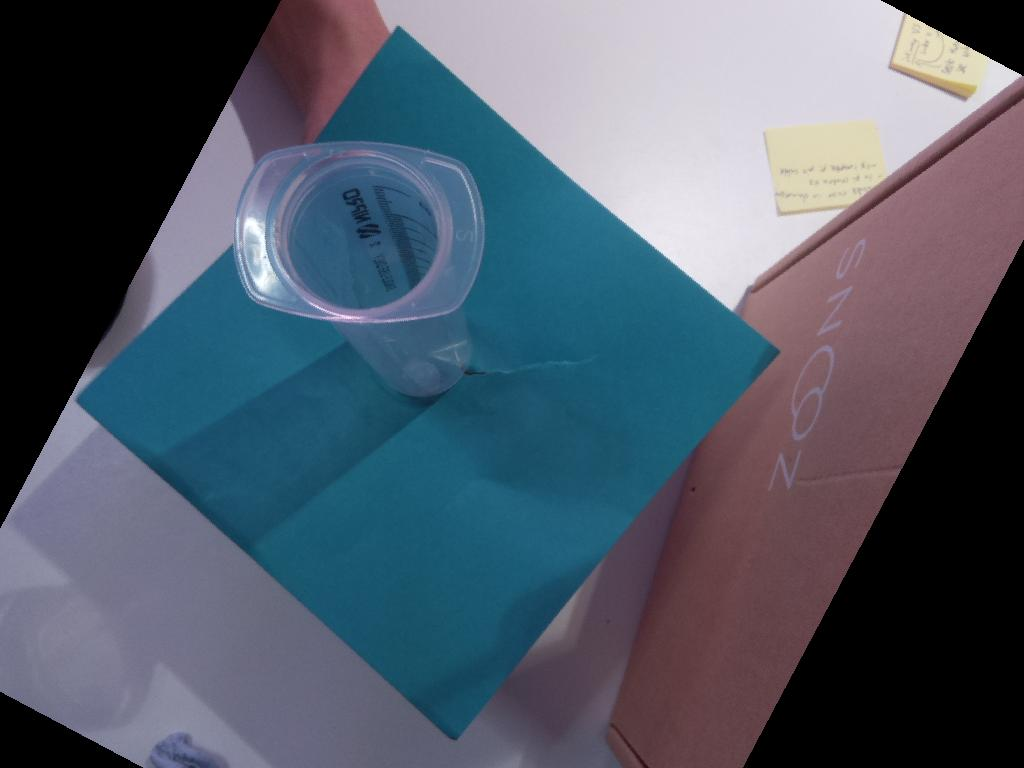clean: (232, 141, 487, 326)
